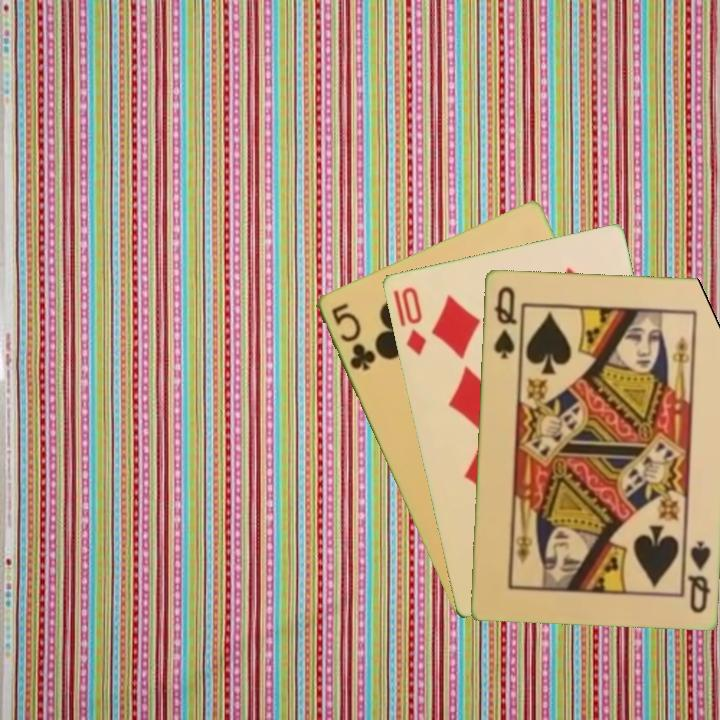10d: (397, 283, 429, 358)
5c: (327, 299, 378, 374)
Qs: (679, 535, 713, 615), (490, 282, 519, 362)
